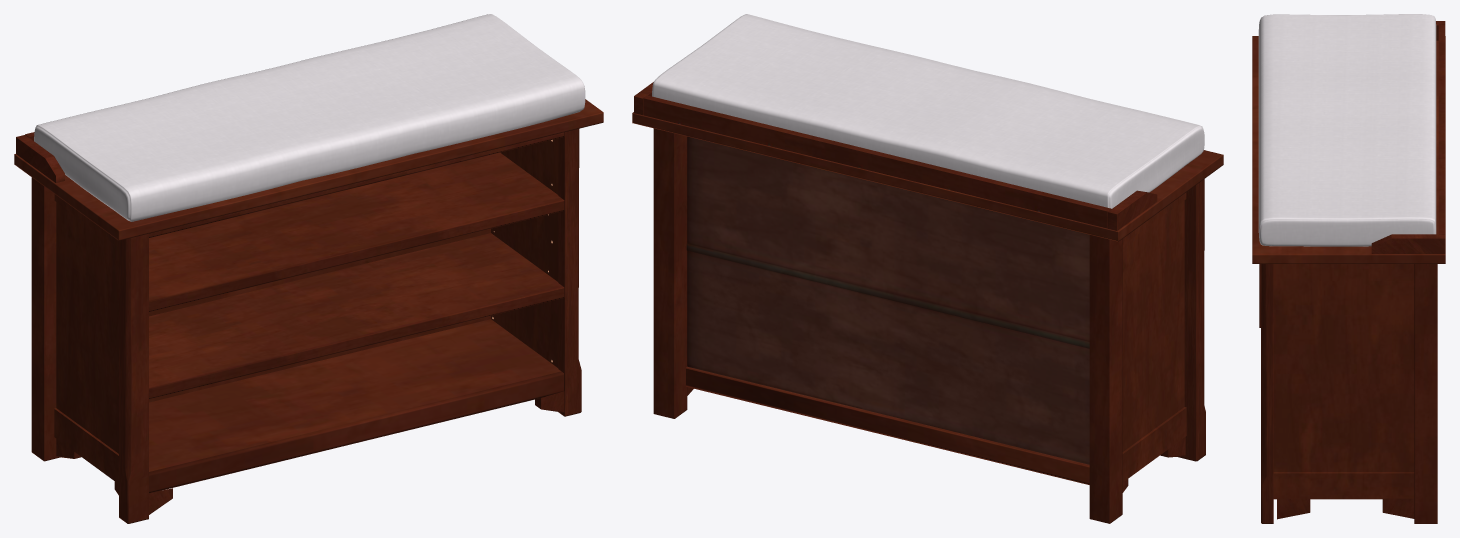
The model's file is sofa_B07DBB7FN6.glb.
3 renders of one model, left to right at view 1: azimuth 30°, elevation 25°; view 2: azimuth 150°, elevation 25°; view 3: azimuth 270°, elevation 25°, orthographic. The views are drawn at different scales.
Parts seen in each view (by area): view 1: RootNode; view 2: RootNode; view 3: RootNode.
Boxes of the visible parts, box(x1,y1,x2,y2) form: RootNode: box(14, 14, 603, 523); RootNode: box(632, 14, 1223, 523); RootNode: box(1252, 14, 1445, 523).
Size of the model in its own units: 0.9872 by 0.6459 by 0.369.
1 material, 1 textured.
